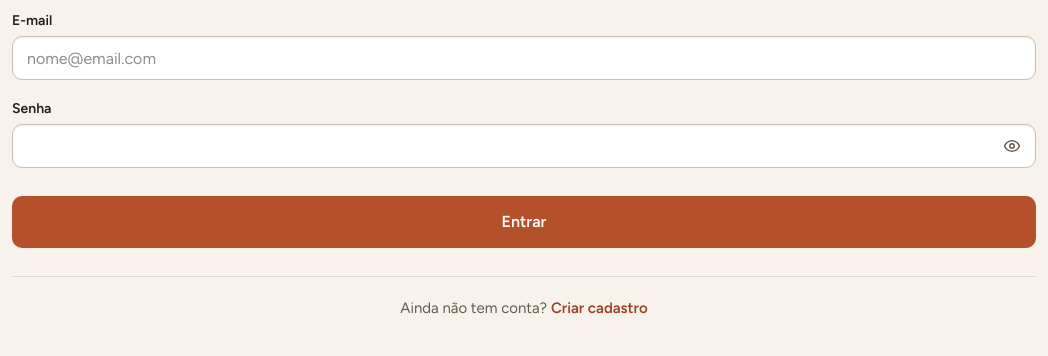
Test: LoginForm › email em formato invalido bloqueia envio e mostra erro no campo
Step 1. Type "nao-e-email" into the field labelled "E-mail" → (524, 58), box x1=12 y1=36 x2=1036 y2=80
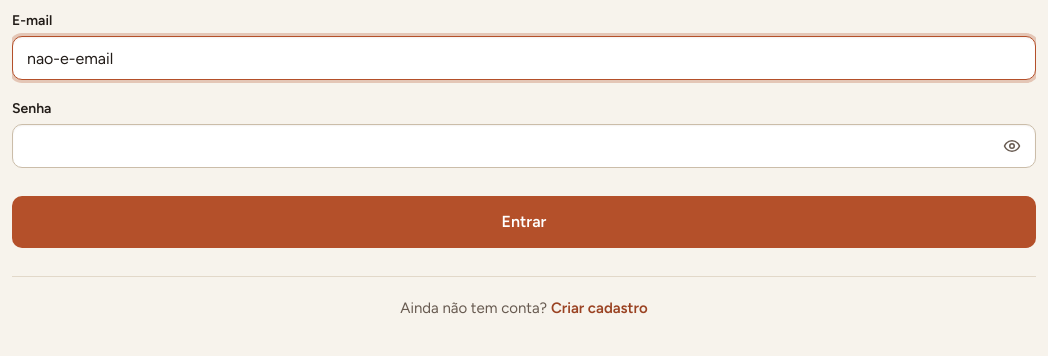
Step 2. Type "senha1234" into the password field labelled "Senha" → (524, 146), box x1=12 y1=124 x2=1036 y2=168
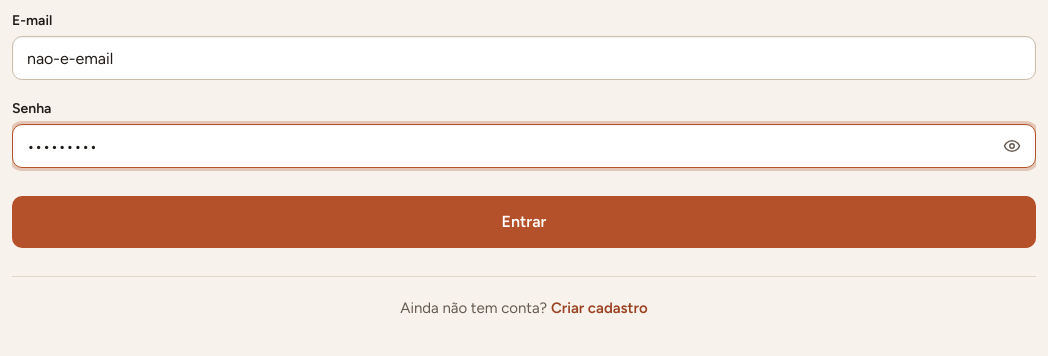
Step 3. Click the button "Entrar" → (524, 222), box x1=12 y1=196 x2=1036 y2=248
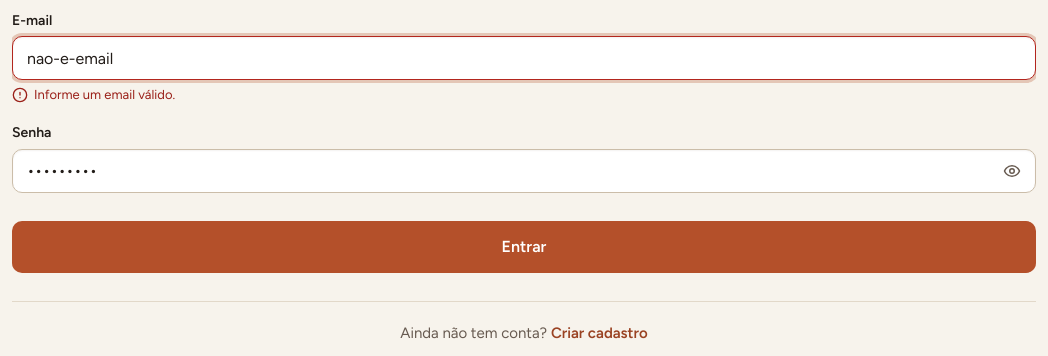
Expected: the text "Informe um email válido." is shown, x1=12 y1=87 x2=175 y2=103
